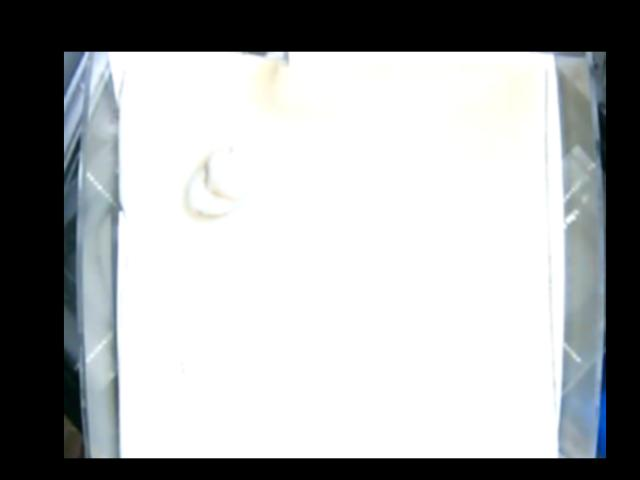Pebble: (185, 144, 251, 216)
